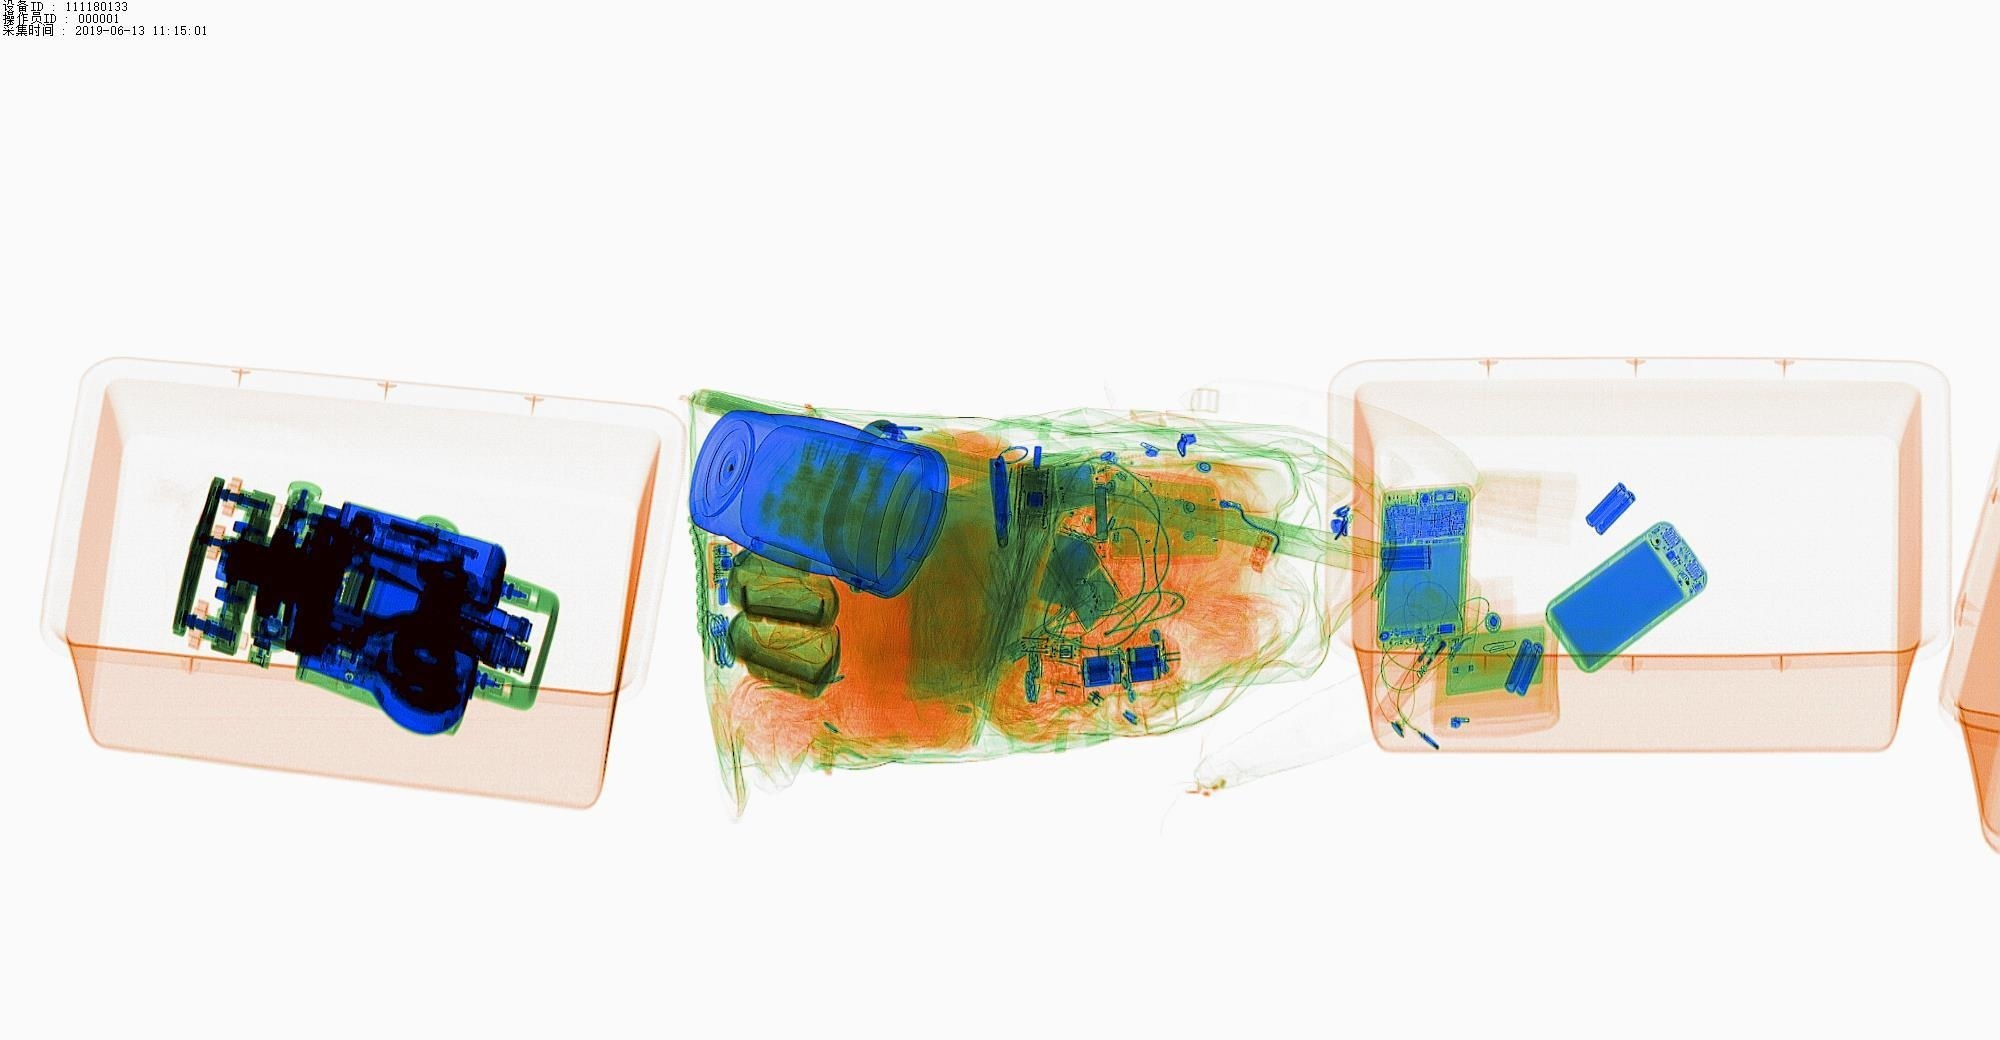NonmetallicFire: (1373, 632, 1460, 734)
